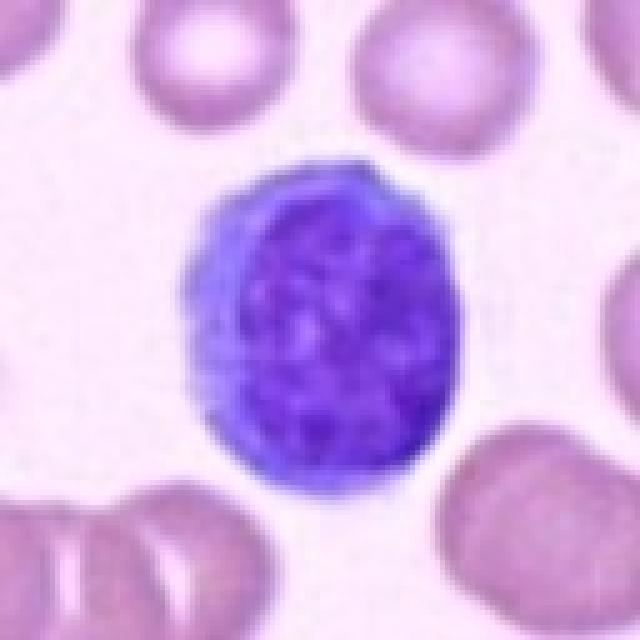lympho: (178, 153, 465, 508)
